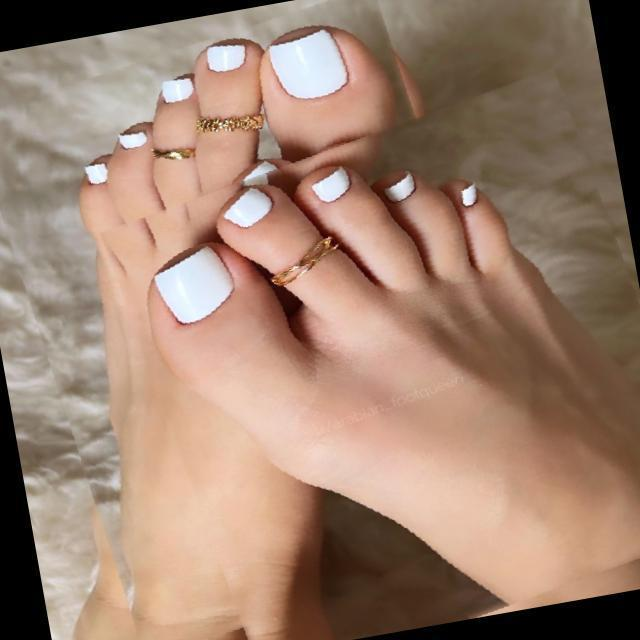Barefoots: (140, 159, 639, 605), (64, 8, 416, 631)
